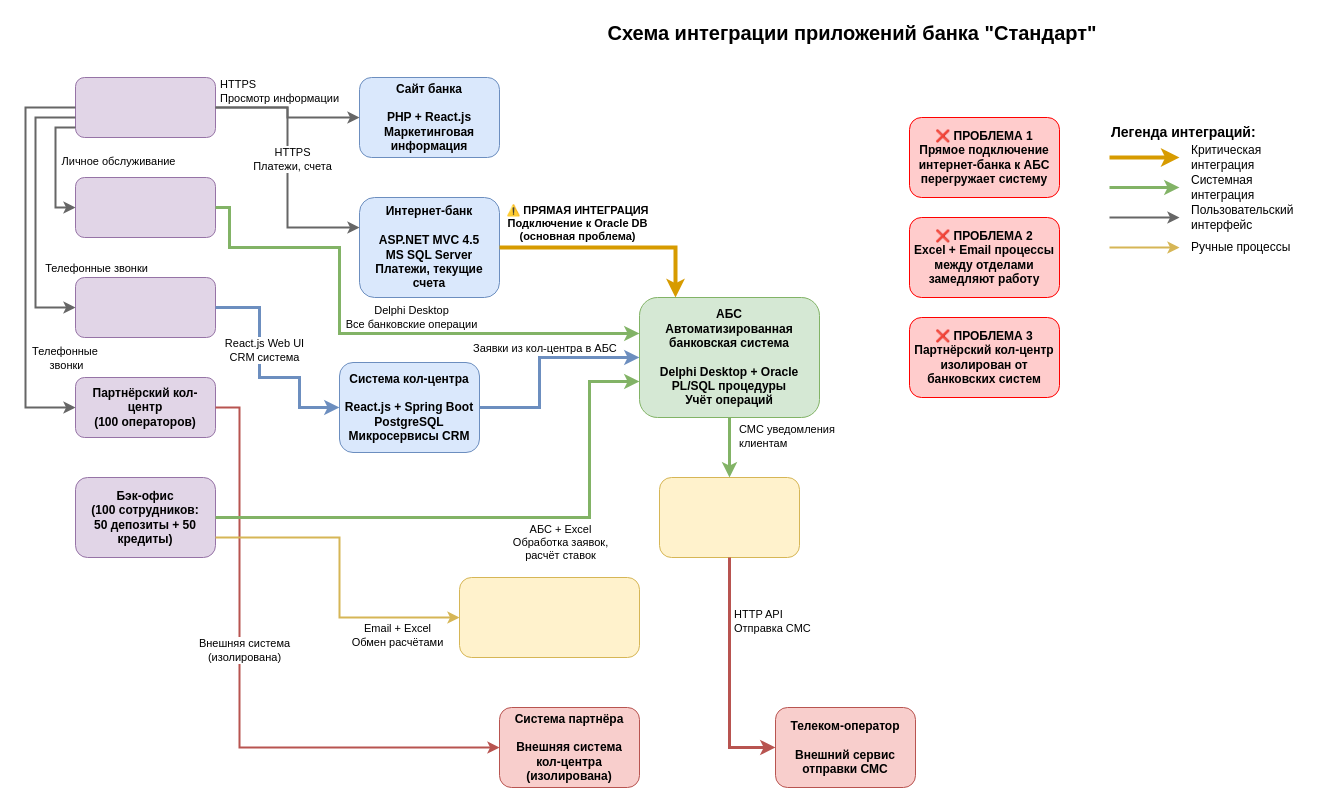
Image size: 1326x805. Some labels were removed from this diagram. The shapes that lost their labels are listed below. From the top down, each one's box as (x1, y1, x2, y2) in pixels, then its label:
(74, 76, 216, 138): Клиенты банка (старшего возраста)
(74, 176, 216, 238): Сотрудники отделений (500 человек, 50 офисов)
(74, 276, 216, 338): Операторы кол-центра (200 человек)
(658, 476, 800, 558): СМС-шлюз Интеграция с телеком-оператором
(458, 576, 640, 658): Excel + Email Расчёт ставок Обмен данными между отделами
